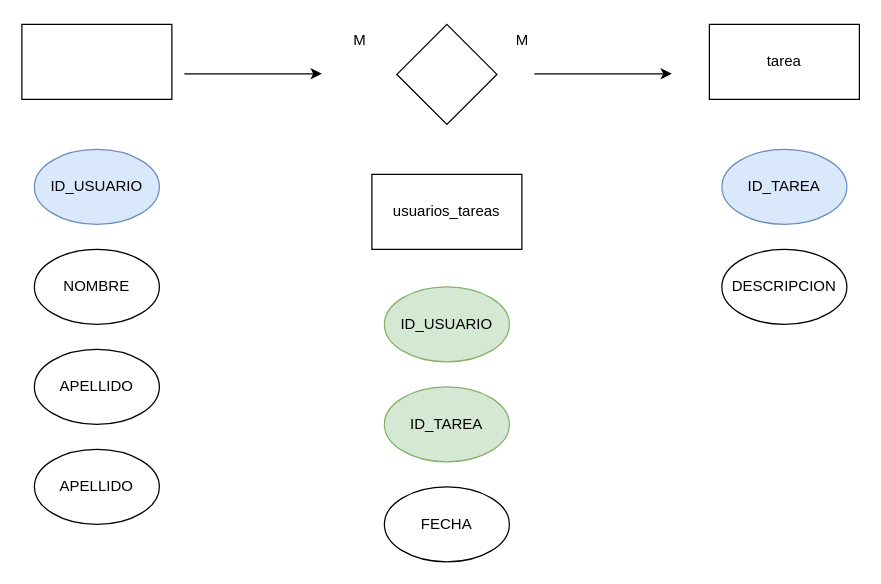
Some shapes in this 881 by 584 pixel diagram are drawn without their labels. Here are the shapes that lost their labels. From the top down, the box of each, then its label:
(21, 23, 172, 99): usuario
(396, 23, 497, 124): asigno
